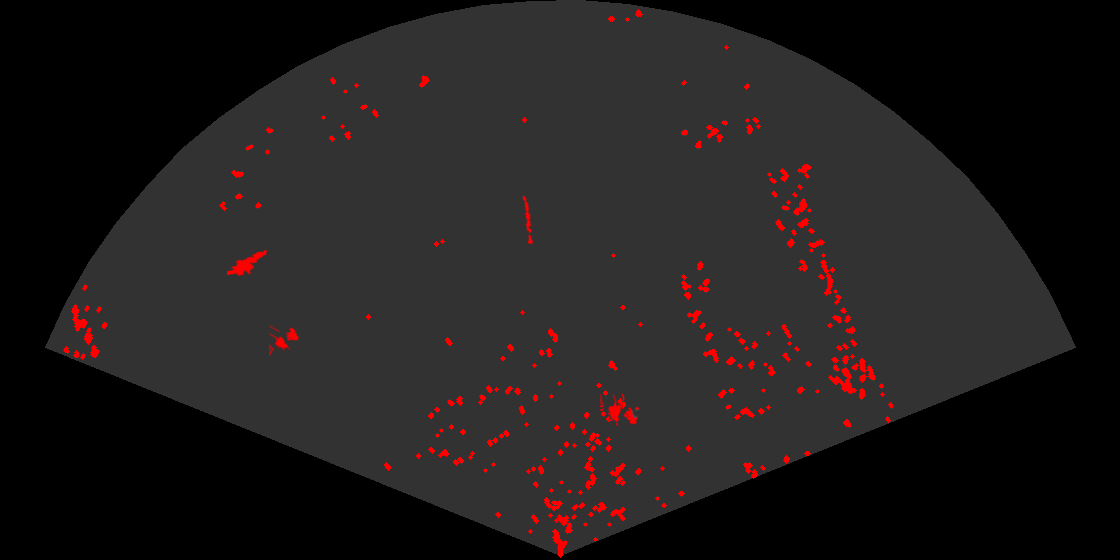cage: (600, 394, 641, 427), (269, 323, 301, 358)
chain: (521, 194, 535, 244)
frogman: (227, 248, 270, 277)
